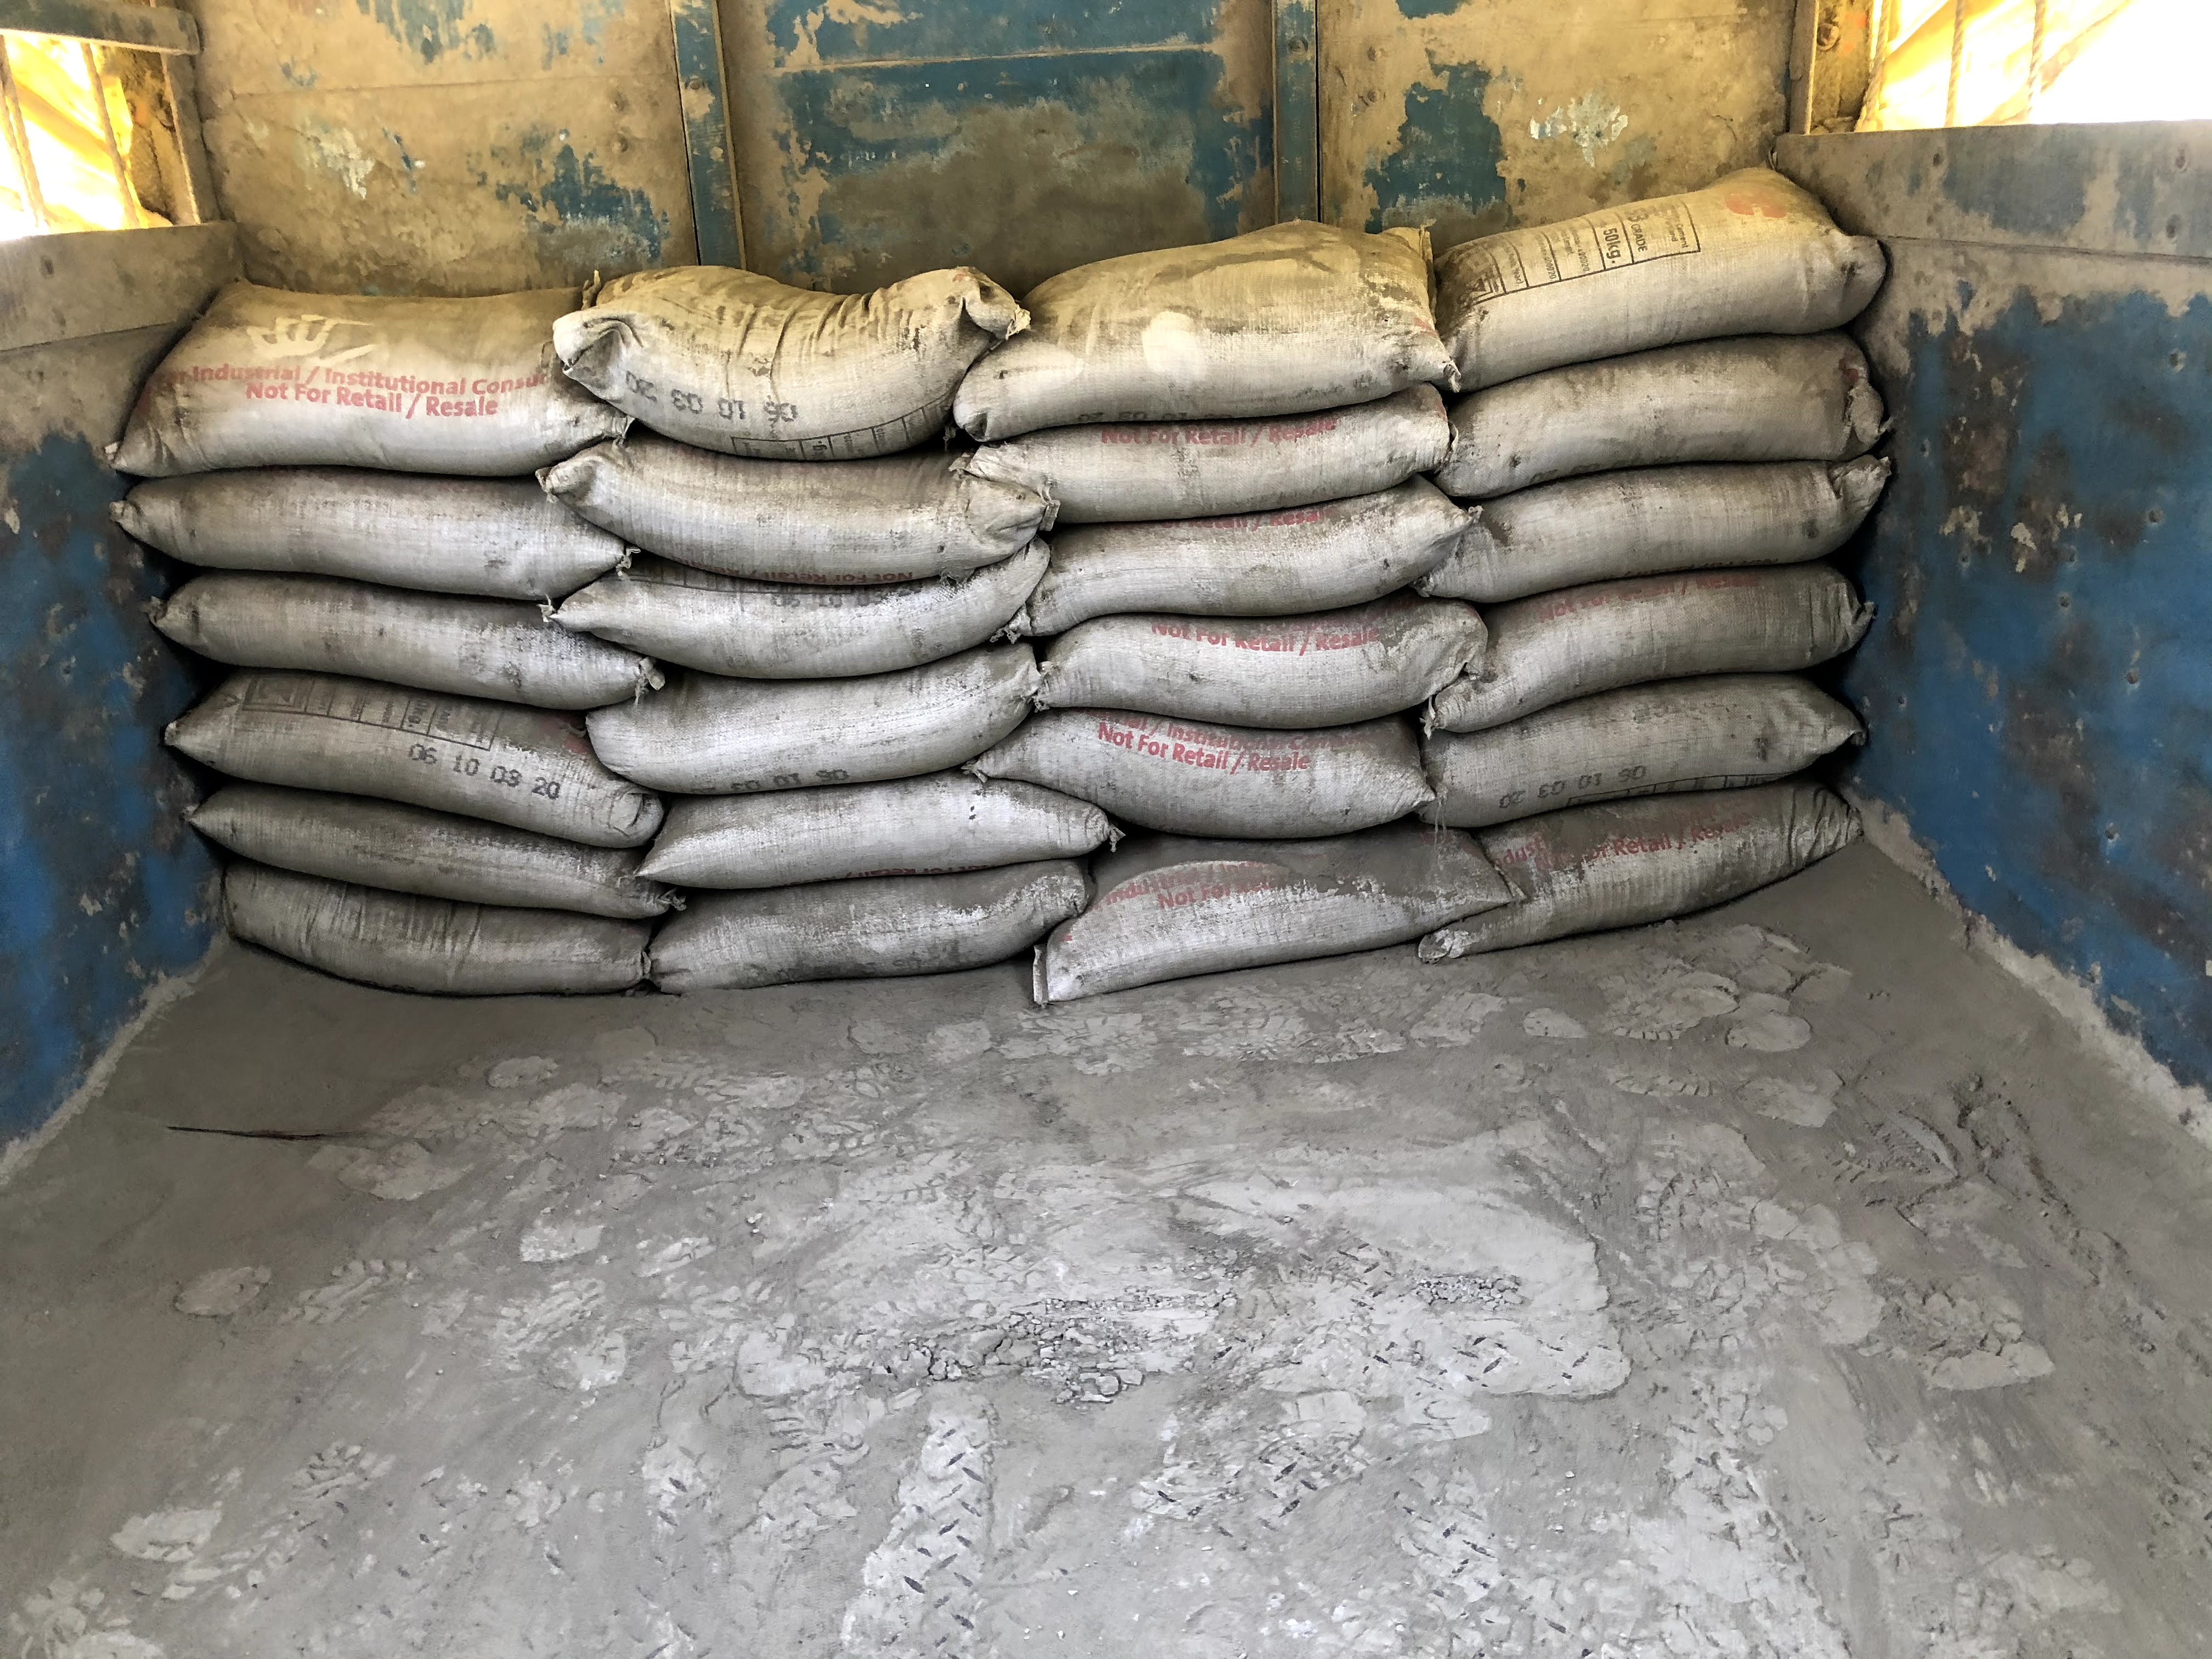cement bag: (1467, 765, 1876, 932), (1463, 561, 1876, 716), (179, 561, 604, 704), (185, 779, 651, 908), (618, 866, 1075, 993), (174, 446, 580, 580), (641, 664, 1012, 809), (951, 326, 1456, 430), (155, 331, 550, 464), (1482, 356, 1888, 484), (211, 866, 618, 993), (578, 293, 951, 430), (1047, 498, 1461, 622), (1057, 709, 1467, 824), (1447, 251, 1888, 356), (611, 465, 1008, 579), (1094, 833, 1467, 932), (1047, 622, 1467, 709), (611, 579, 1012, 664), (1482, 484, 1876, 561), (202, 704, 604, 774), (1050, 430, 1461, 498), (641, 809, 1075, 866), (1463, 716, 1876, 765)
